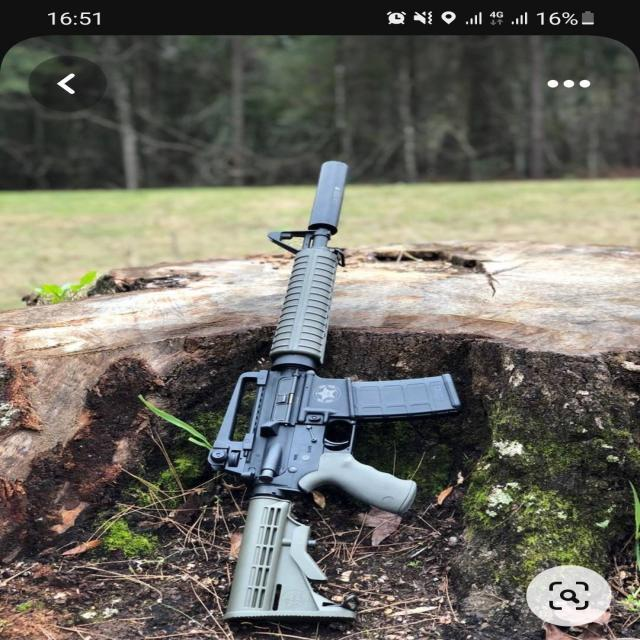m16: (223, 162, 484, 522)
